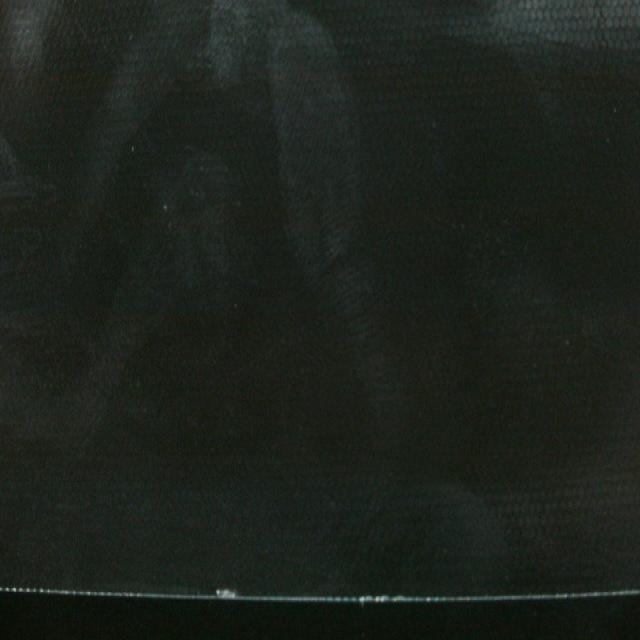edge_chip: (349, 587, 426, 608), (212, 580, 242, 607)
